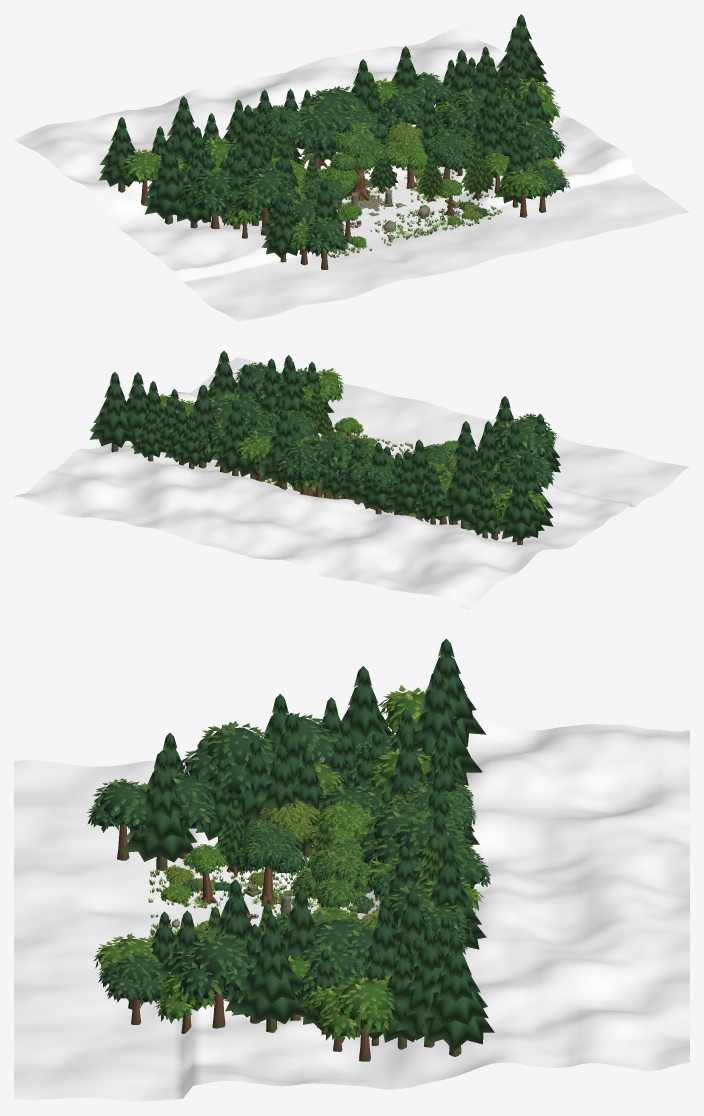
The model's file is eclipse_clearing.glb.
The picture shows the model from 3 angles, top to bottom: view 1: azimuth 30°, elevation 25°; view 2: azimuth 150°, elevation 25°; view 3: azimuth 270°, elevation 25°; orthographic projection. The views are drawn at different scales.
Parts seen in each view (by area): view 1: Terrain, TreeAncient, Far_TreeFarBroad.012, Far_PineFar.014, Far_TreeFarBroad.011, Far_TreeFarBroad.004, TreeBroadC.001, Far_PineFar.019, Far_TreeFarBroad.017, Far_TreeFarBroad.001, Far_PineFar.042, Far_TreeFarBroad.010 (+43 smaller); view 2: Terrain, Far_PineFar.020, Far_PineFar.046, Far_PineFar.019, Far_PineFar.035, Far_PineFar, Far_TreeFarBroad, TreeBroadC.003, Far_PineFar.002, Far_TreeFarBroad.009, Far_TreeFarBroad.012, Far_PineFar.025 (+30 smaller); view 3: Terrain, Far_PineFar.046, Far_PineFar.012, Far_TreeFarBroad.001, Far_PineFar.023, Far_TreeFarBroad.012, TreeAncient, Far_TreeFarBroadB.006, TreeBroadC, Far_PineFar.020, Far_TreeFarBroad.013, Far_TreeFarBroad.017 (+45 smaller).
Boxes of the visible parts, left/top/right/bottom form: Terrain: left=14, top=25, right=689, bottom=321; TreeAncient: left=330, top=130, right=389, bottom=201; Far_TreeFarBroad.012: left=233, top=167, right=299, bottom=235; Far_PineFar.014: left=143, top=140, right=184, bottom=224; Far_TreeFarBroad.011: left=289, top=104, right=339, bottom=169; Far_TreeFarBroad.004: left=181, top=169, right=236, bottom=228; TreeBroadC.001: left=423, top=128, right=475, bottom=179; Far_PineFar.019: left=98, top=117, right=144, bottom=192; Far_TreeFarBroad.017: left=301, top=216, right=348, bottom=269; Far_TreeFarBroad.001: left=504, top=118, right=565, bottom=163; Far_PineFar.042: left=261, top=193, right=303, bottom=262; Far_TreeFarBroad.010: left=382, top=88, right=424, bottom=129; Terrain: left=14, top=357, right=689, bottom=609; Far_PineFar.020: left=436, top=445, right=480, bottom=529; Far_PineFar.046: left=89, top=372, right=132, bottom=452; Far_PineFar.019: left=494, top=470, right=544, bottom=544; Far_PineFar.035: left=211, top=400, right=253, bottom=476; Far_PineFar: left=257, top=409, right=300, bottom=489; Far_TreeFarBroad: left=272, top=438, right=323, bottom=495; TreeBroadC.003: left=345, top=448, right=395, bottom=510; Far_PineFar.002: left=386, top=450, right=423, bottom=515; Far_TreeFarBroad.009: left=307, top=434, right=349, bottom=498; Far_TreeFarBroad.012: left=492, top=419, right=555, bottom=461; Far_PineFar.025: left=465, top=477, right=500, bottom=538; Terrain: left=14, top=723, right=689, bottom=1101; Far_PineFar.046: left=422, top=933, right=494, bottom=1056; Far_PineFar.012: left=232, top=913, right=306, bottom=1032; Far_TreeFarBroad.001: left=170, top=930, right=249, bottom=1028; Far_PineFar.023: left=121, top=751, right=197, bottom=871; Far_TreeFarBroad.012: left=177, top=721, right=276, bottom=799; TreeAncient: left=295, top=837, right=372, bottom=908; Far_TreeFarBroadB.006: left=317, top=975, right=394, bottom=1061; TreeBroadC: left=232, top=820, right=307, bottom=906; Far_PineFar.020: left=414, top=669, right=482, bottom=785; Far_TreeFarBroad.013: left=98, top=952, right=165, bottom=1024; Far_TreeFarBroad.017: left=87, top=778, right=147, bottom=860.
Bounding box in the file's own units: 64.24 × 15.3 × 54.4.
